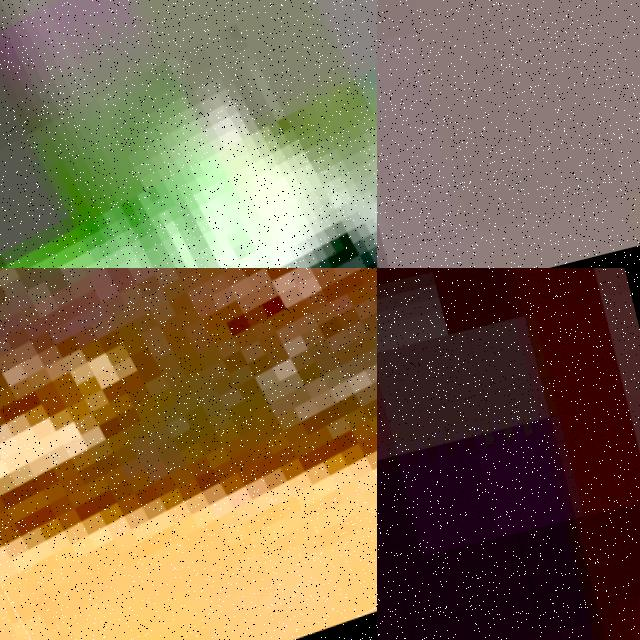drone: (0, 268, 377, 640), (0, 0, 377, 268)
